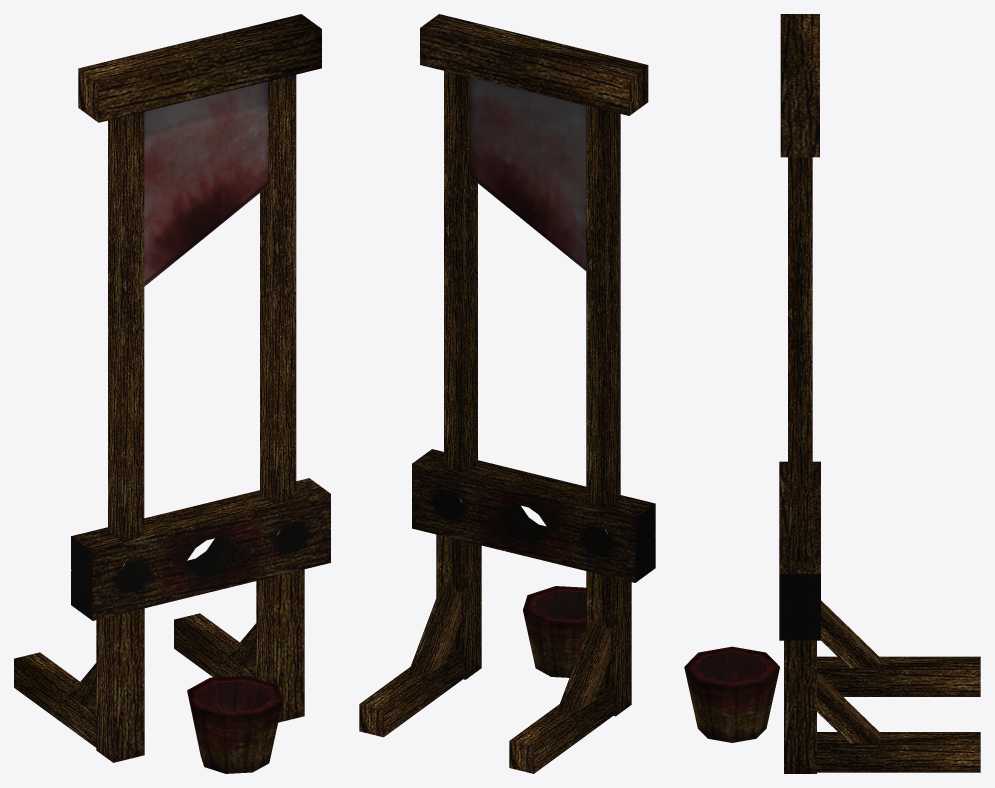
Rendered from guillotine.obj.
3 views of the same model, side by side, from view 1: azimuth 30°, elevation 25°; view 2: azimuth 150°, elevation 25°; view 3: azimuth 270°, elevation 25° (orthographic). The views are drawn at different scales.
Visible parts, largest first — view 1: Box01; view 2: Box01; view 3: Box01.
Boxes of the visible parts, left/top/right/bottom form: Box01: left=14, top=14, right=330, bottom=773; Box01: left=359, top=14, right=655, bottom=773; Box01: left=684, top=14, right=980, bottom=773.
Bounding box in the file's own units: 0.7687 × 2.11 × 0.8572.
Materials: 1 (1 with a texture image).
